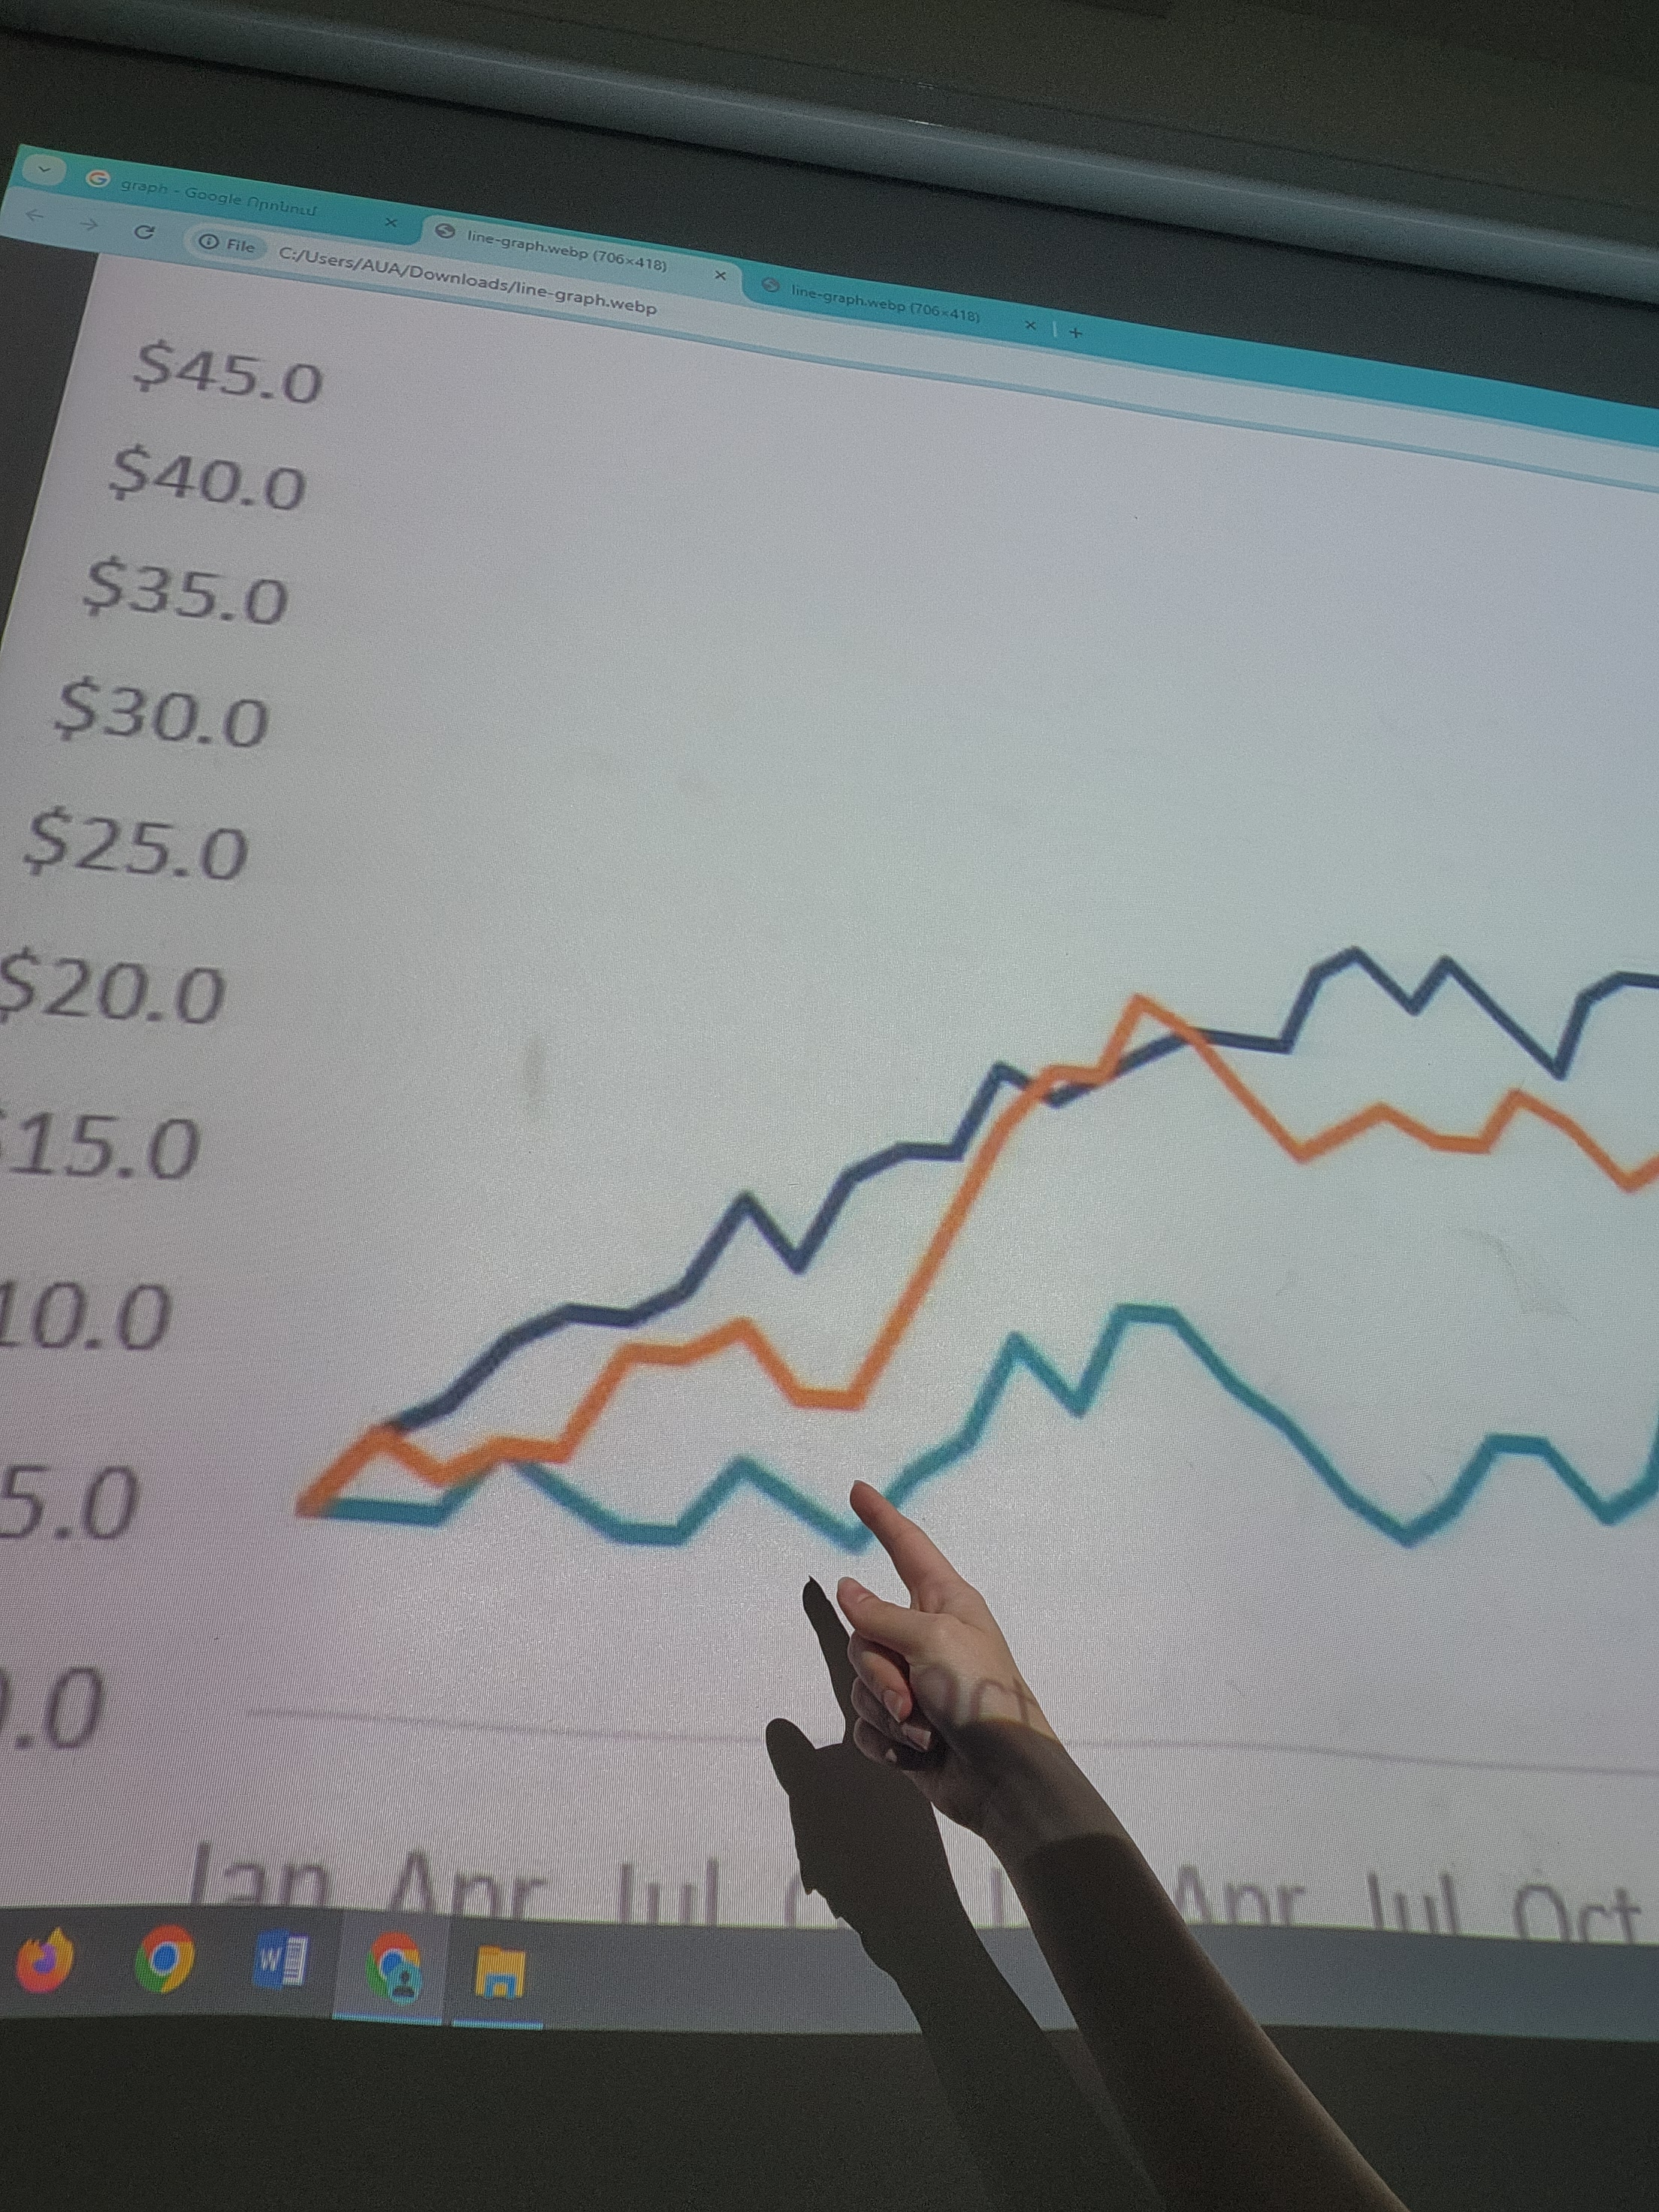pointing_gesture: (826, 1479, 1049, 1824)
